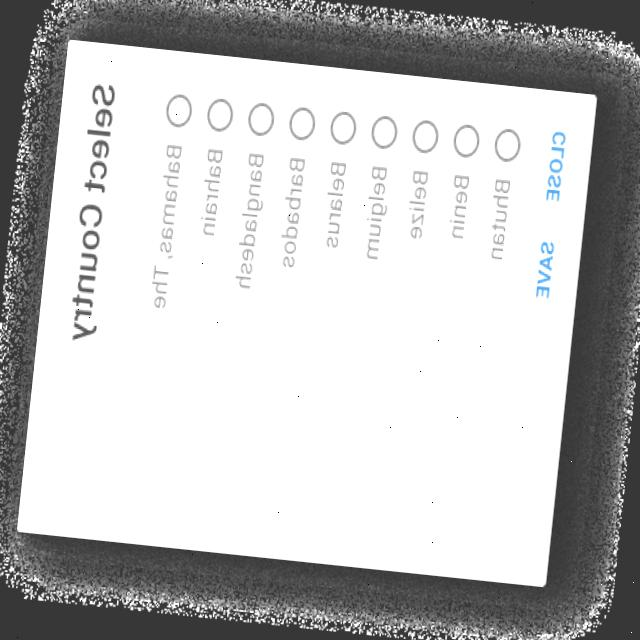QLabel: (64, 78, 122, 342), (544, 127, 568, 206), (534, 236, 558, 300)
VDialog: (14, 36, 598, 588)
VRadio: (142, 86, 196, 312), (229, 96, 277, 292), (272, 102, 318, 270), (192, 91, 238, 238), (357, 111, 400, 261), (316, 106, 360, 250), (480, 122, 522, 263), (400, 115, 442, 242), (442, 118, 482, 240)
